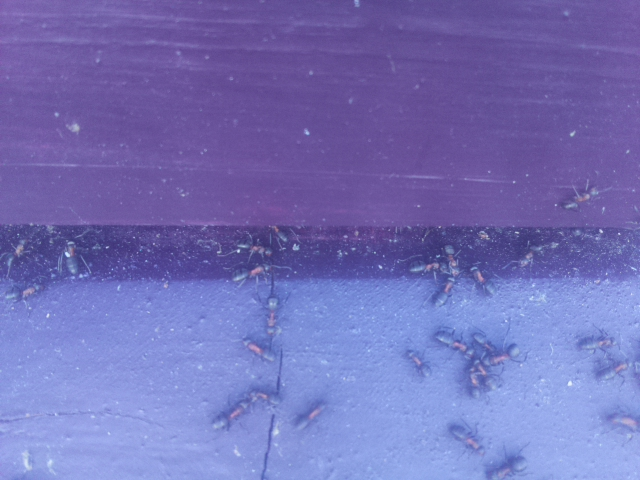ant: (204, 383, 271, 438), (469, 330, 526, 371), (445, 416, 489, 460), (428, 263, 462, 319), (554, 180, 605, 213), (431, 325, 473, 363), (464, 356, 499, 399), (235, 333, 279, 366), (466, 258, 497, 303), (483, 451, 531, 480), (259, 290, 287, 338), (590, 356, 637, 383), (575, 333, 619, 352), (233, 240, 275, 259), (607, 410, 639, 433), (61, 235, 78, 275)
